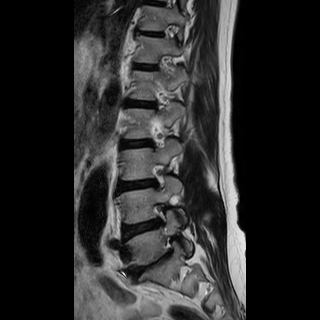LFS0: (144, 159, 171, 193), (148, 196, 170, 233)
